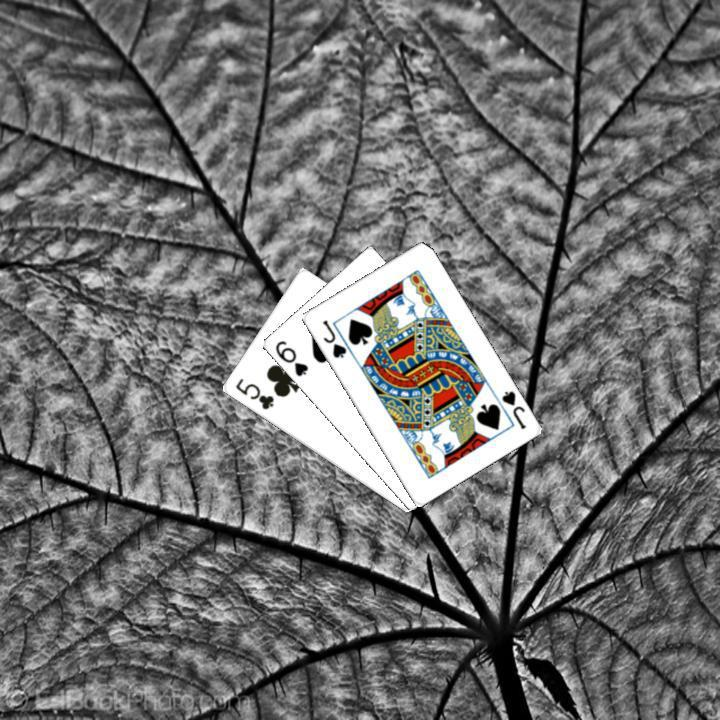5: (230, 374, 276, 412)
6: (270, 336, 310, 378)
J: (497, 386, 528, 431), (318, 315, 348, 360)
